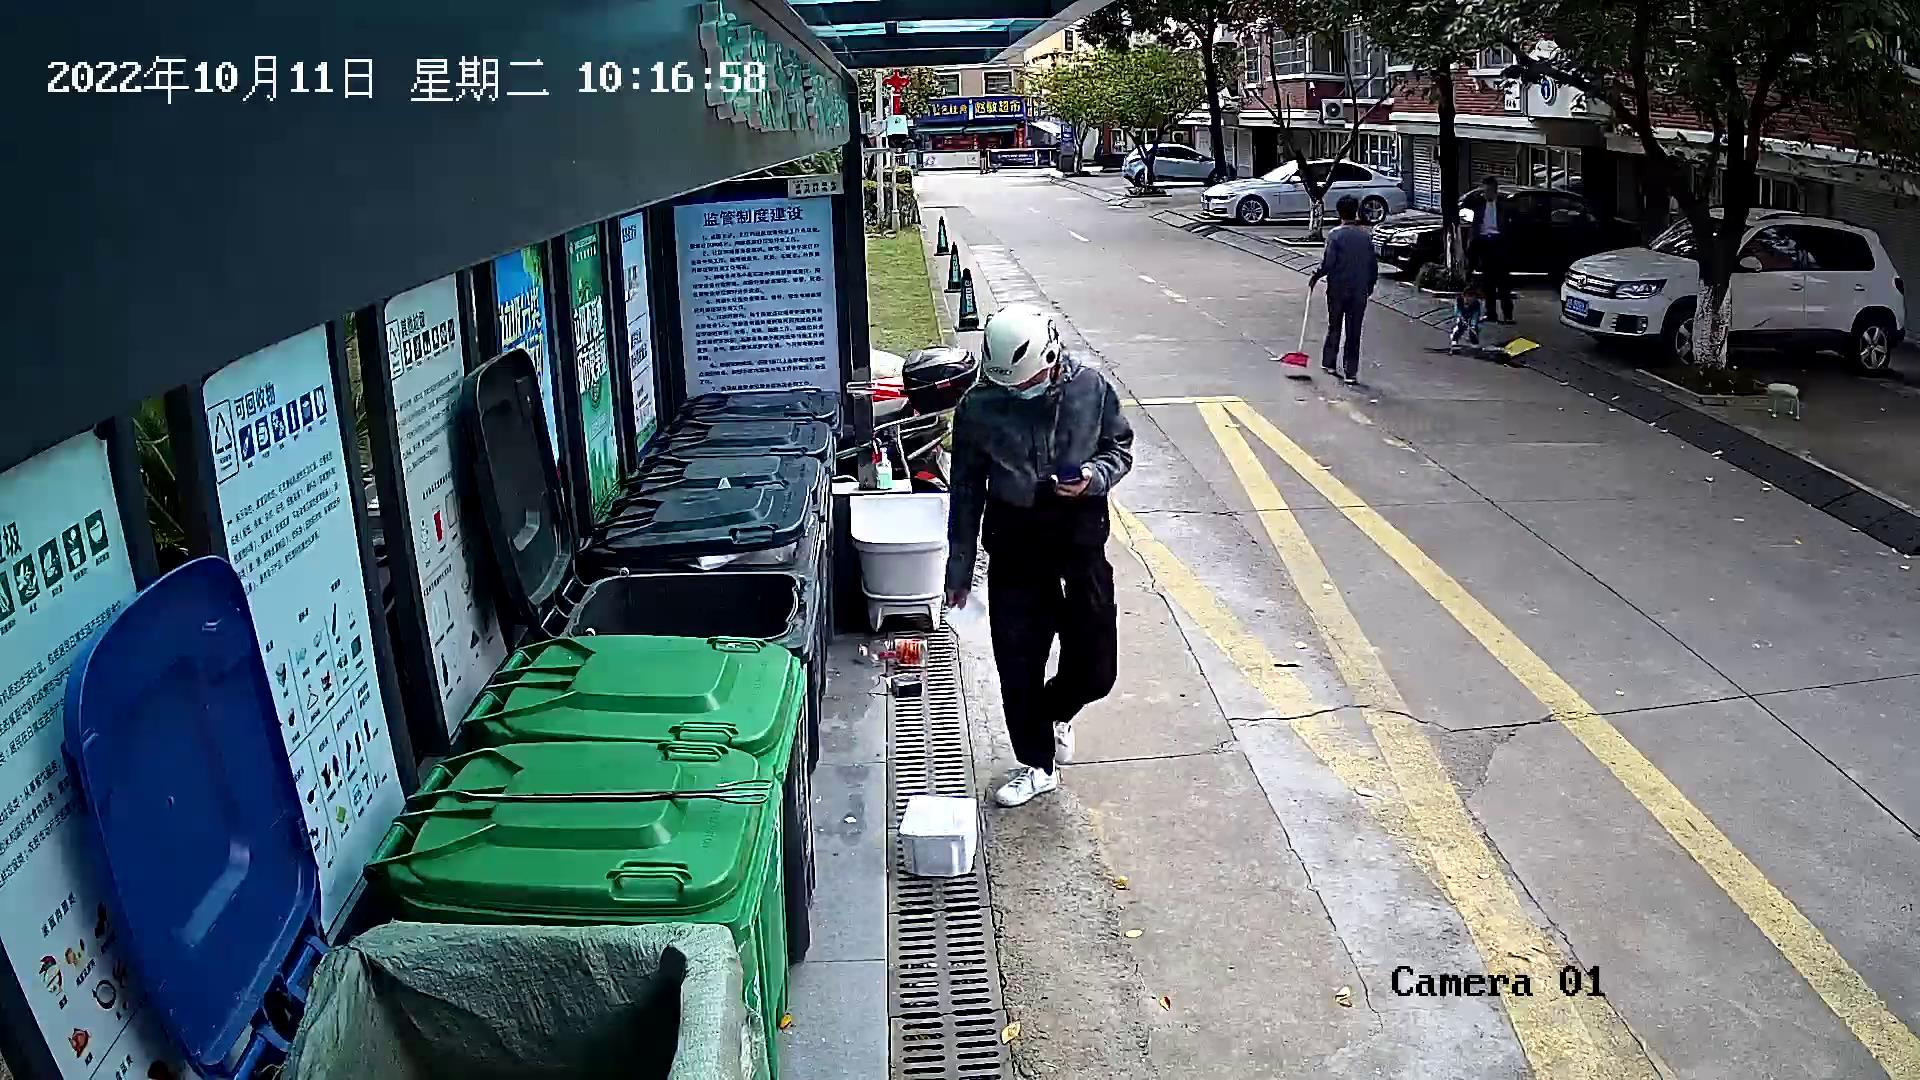paomozhipin: (888, 787, 987, 886)
person: (934, 296, 1145, 811)
suliaozhipin: (853, 629, 933, 674)
